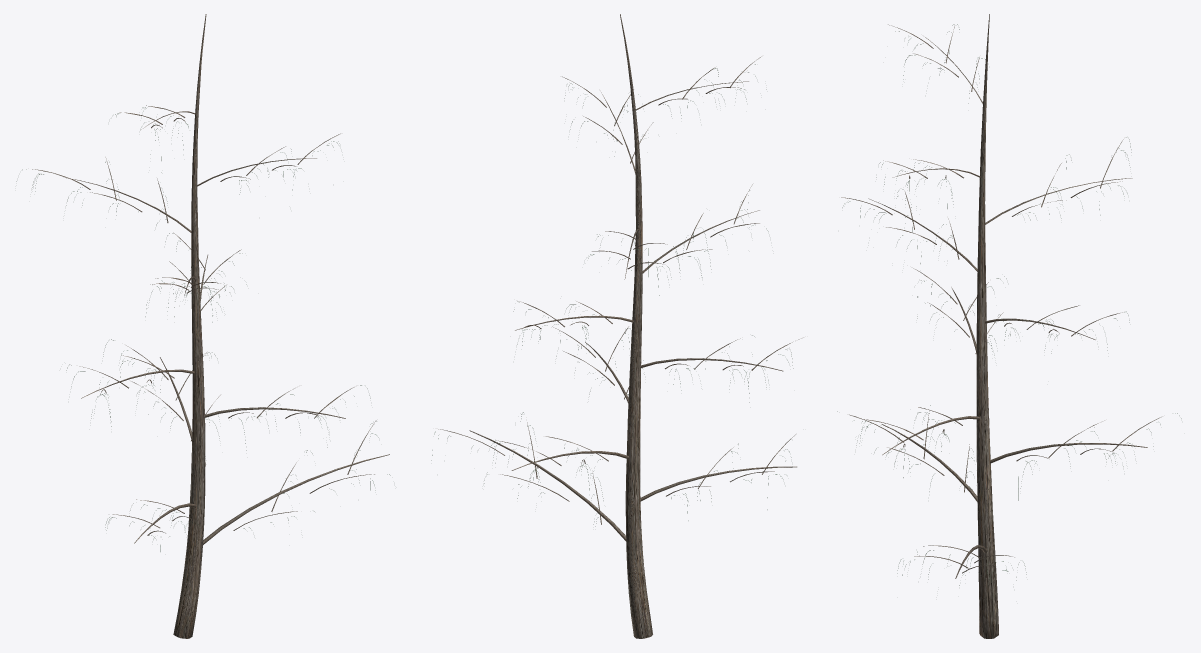
The model's file is casuarina-1.glb.
3 renders of one model, left to right at view 1: azimuth 30°, elevation 25°; view 2: azimuth 150°, elevation 25°; view 3: azimuth 270°, elevation 25°, orthographic. The views are drawn at different scales.
Parts seen in each view (by area): view 1: bark, branchlets; view 2: bark, branchlets; view 3: bark, branchlets.
Part boxes in pixels (x1=…): bark: x1=32, y1=14, x2=389, y2=638; branchlets: x1=16, y1=107, x2=390, y2=551; bark: x1=438, y1=14, x2=803, y2=638; branchlets: x1=431, y1=64, x2=793, y2=526; bark: x1=841, y1=14, x2=1162, y2=638; branchlets: x1=837, y1=24, x2=1181, y2=585.
Size of the model in its own units: 0.2118 by 0.381 by 0.1908.
2 materials, 2 textured.
